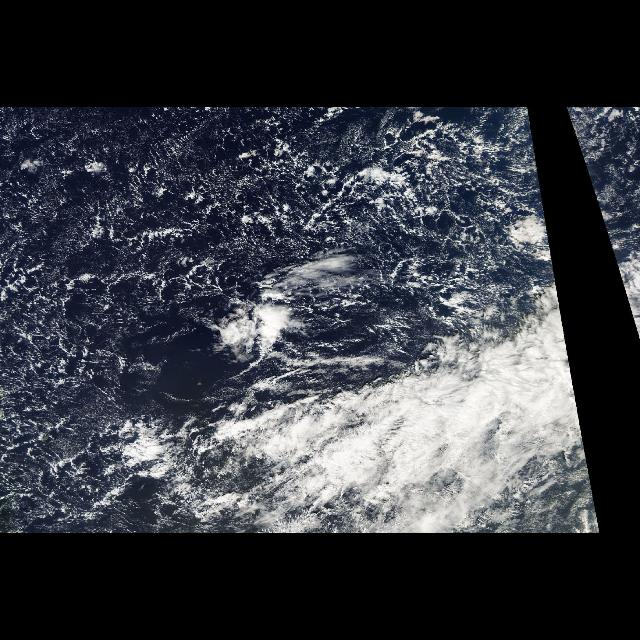Gravel: (10, 115, 500, 305)
